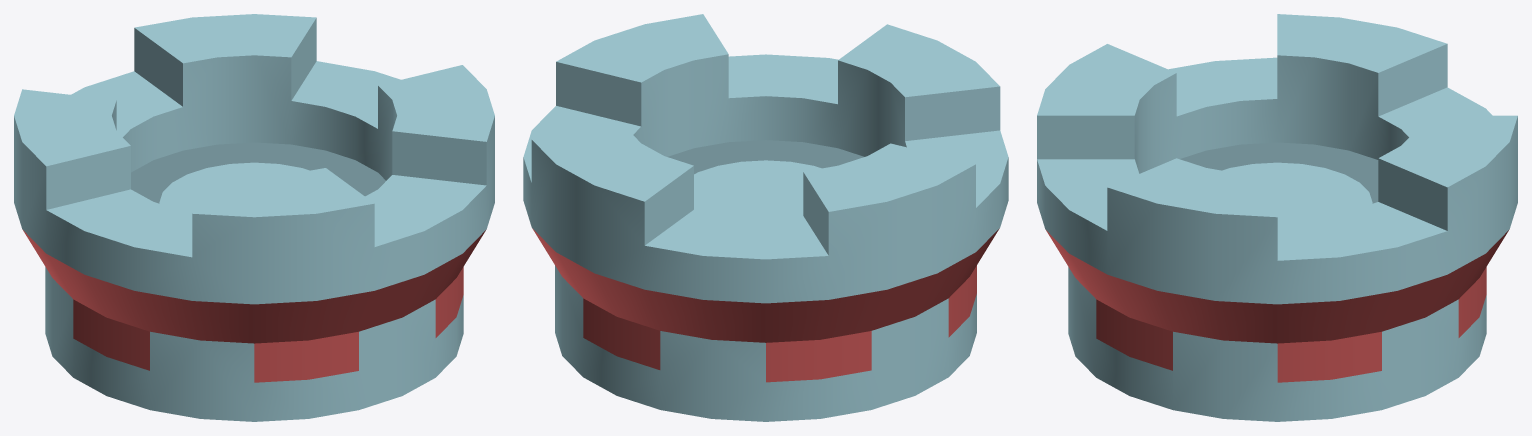
File: towerRound_topC.dae
The picture shows the model from 3 angles, left to right: view 1: azimuth 30°, elevation 25°; view 2: azimuth 150°, elevation 25°; view 3: azimuth 270°, elevation 25°; orthographic projection.
Parts seen in each view (by area): view 1: towerRound_topC; view 2: towerRound_topC; view 3: towerRound_topC.
Boxes of the visible parts, left/top/right/bottom form: towerRound_topC: left=14, top=14, right=494, bottom=421; towerRound_topC: left=523, top=14, right=1008, bottom=421; towerRound_topC: left=1037, top=14, right=1517, bottom=421.
Size of the model in its own units: 1 by 0.5 by 1.
